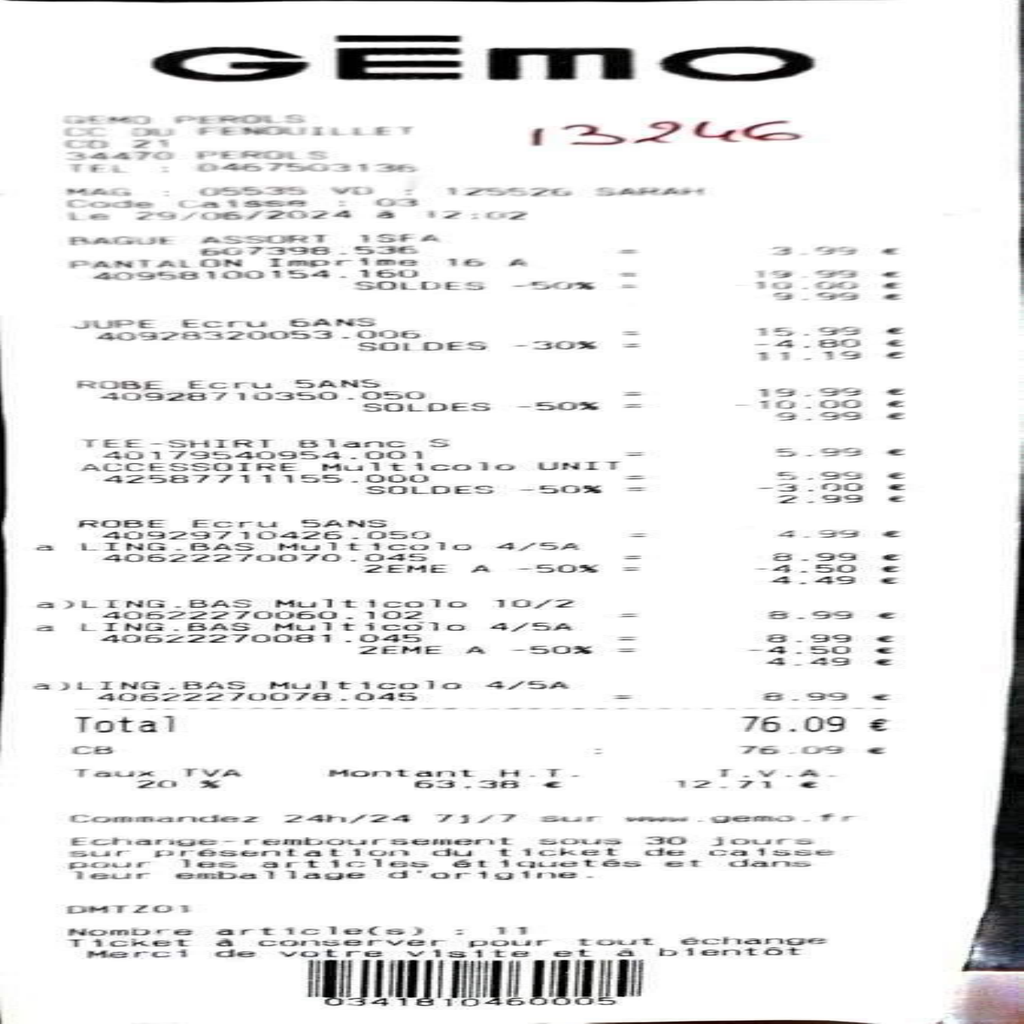recipt: (23, 19, 1014, 1005)
